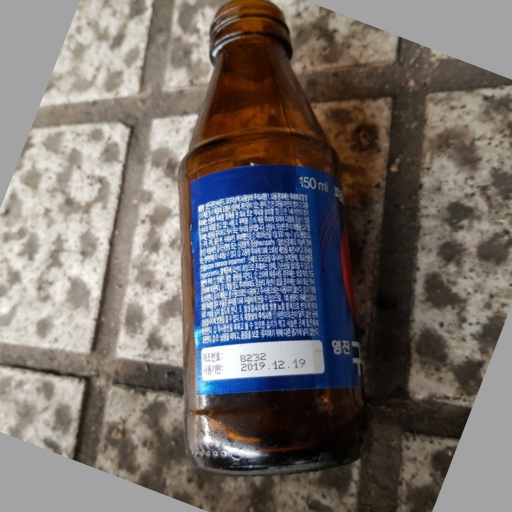Glass_3: (176, 1, 372, 480)
